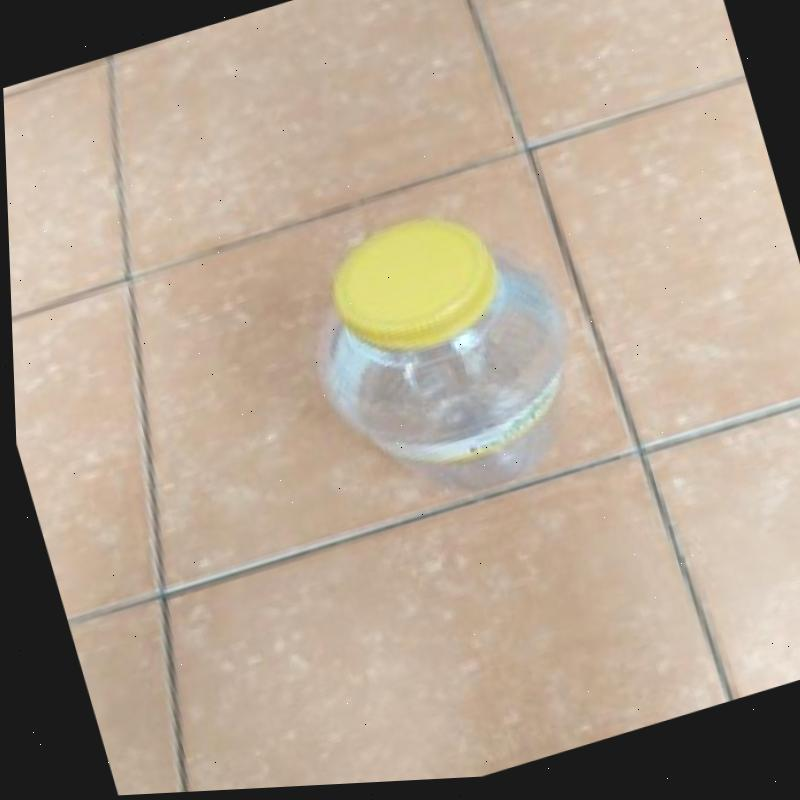botella: (276, 180, 625, 535)
